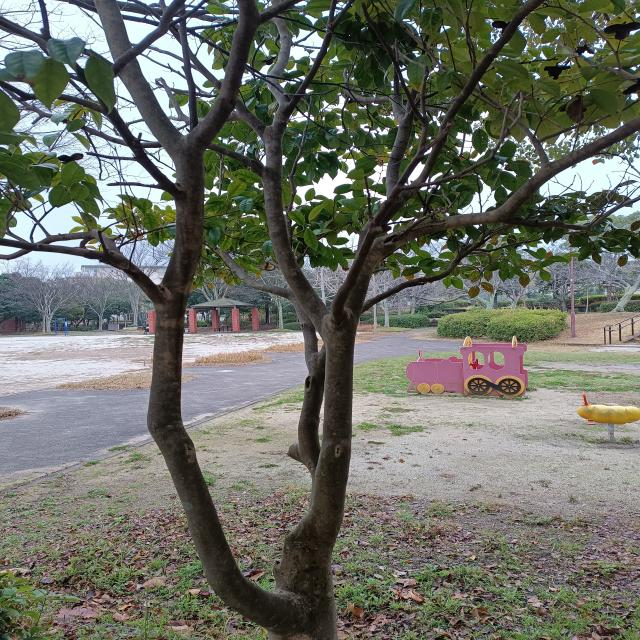Branch: (342, 117, 640, 318), (259, 101, 323, 323), (94, 0, 182, 151), (190, 0, 261, 153), (331, 187, 398, 321), (162, 135, 206, 294), (175, 29, 220, 89), (235, 99, 265, 137)
Twig: (404, 1, 546, 206), (77, 65, 177, 196), (0, 231, 157, 300), (358, 241, 483, 316), (406, 132, 502, 191), (113, 0, 188, 74), (479, 89, 549, 163), (501, 195, 640, 231), (291, 0, 333, 105), (342, 71, 404, 125), (400, 69, 429, 184), (0, 82, 105, 113), (178, 20, 199, 132), (386, 113, 415, 194), (266, 15, 292, 102), (0, 237, 102, 259), (209, 143, 261, 175), (261, 1, 302, 25)
